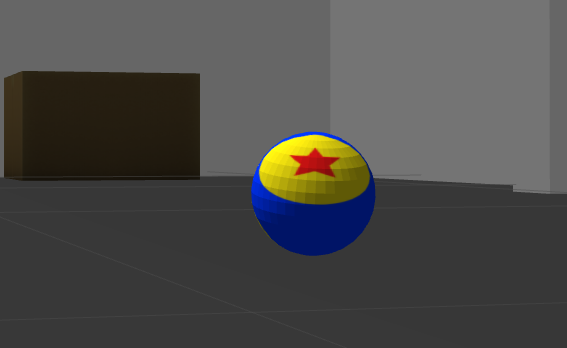toy story ball: (250, 130, 377, 257)
